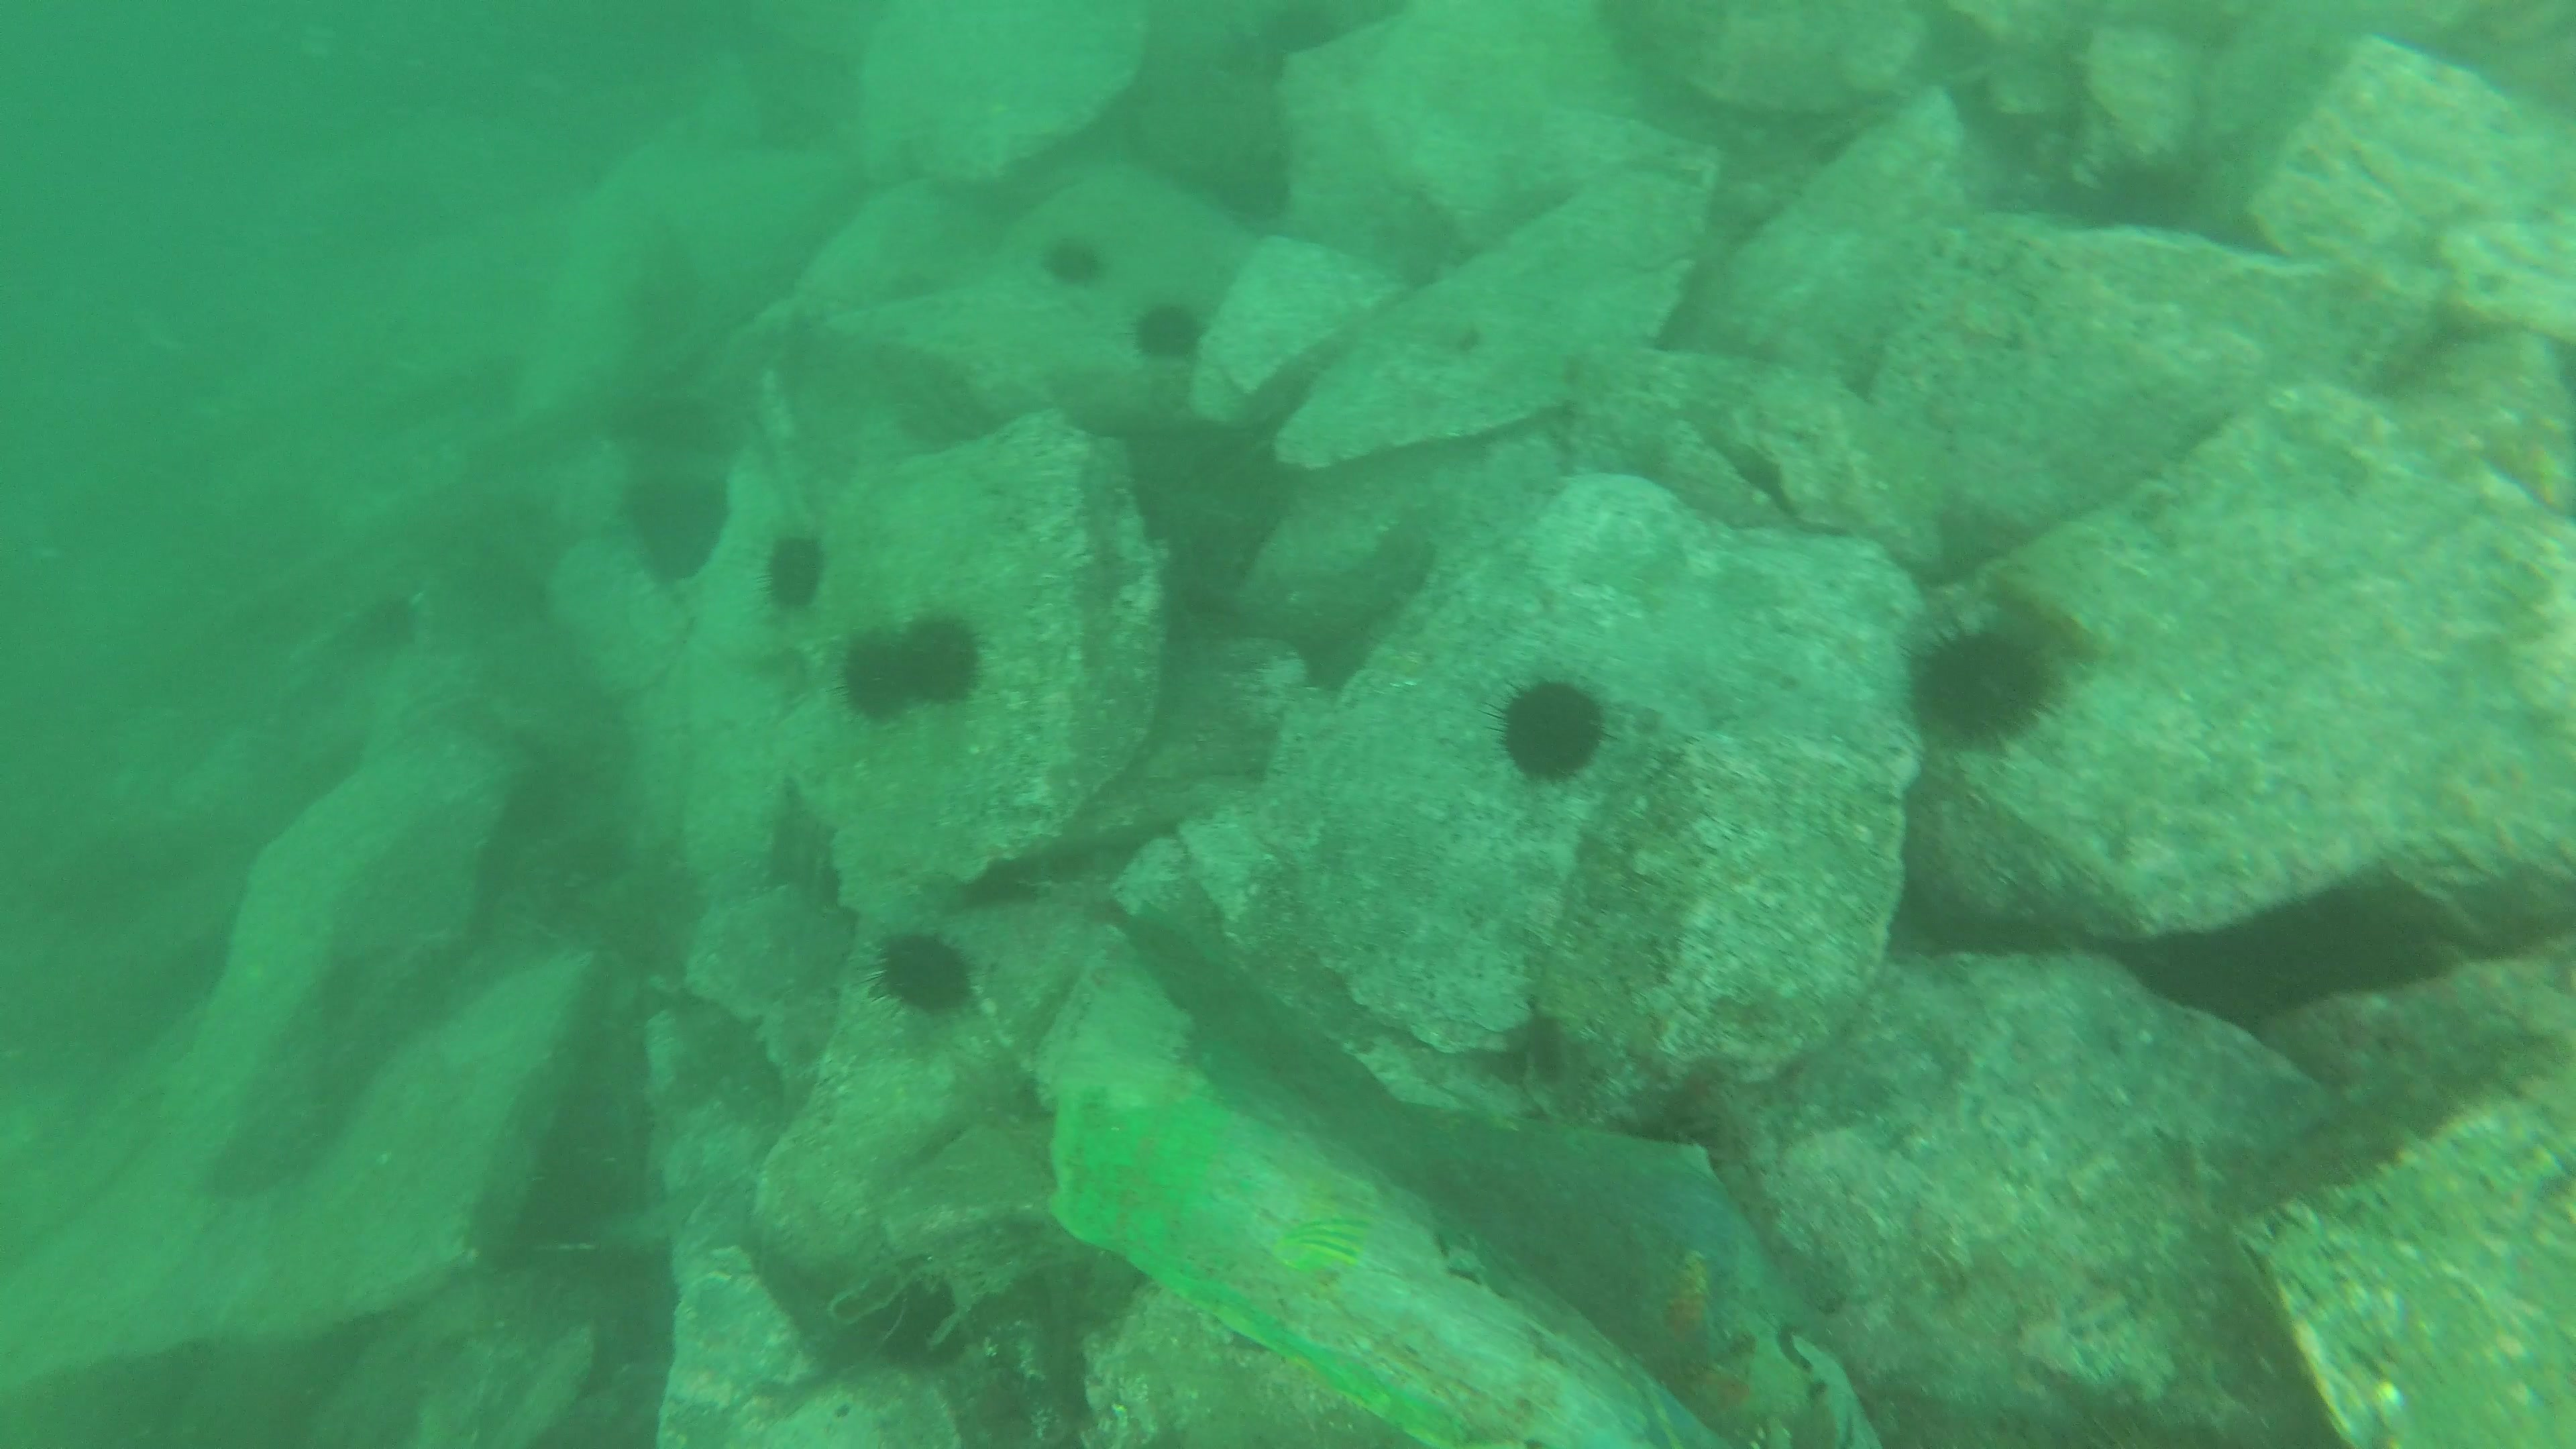echinus: (1904, 607, 2049, 755), (1491, 667, 1608, 771), (869, 924, 975, 1014), (837, 630, 931, 725), (892, 612, 987, 706), (754, 529, 832, 612), (1136, 297, 1205, 361), (1044, 235, 1108, 294)
